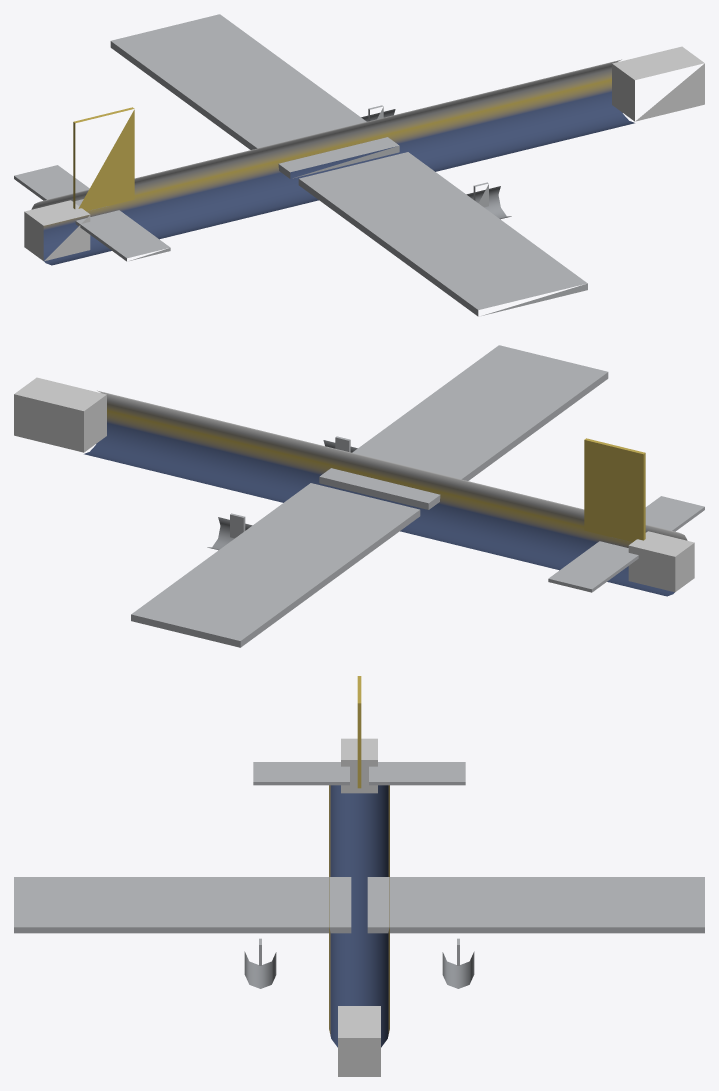
3 views of the same model, one above another, from view 1: azimuth 30°, elevation 25°; view 2: azimuth 150°, elevation 25°; view 3: azimuth 270°, elevation 25° (orthographic). The views are drawn at different scales.
Size of the model in its own units: 72.32 by 15.5 by 69.88.
